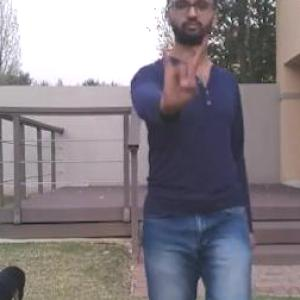takeoff-hand: (153, 28, 212, 110)
